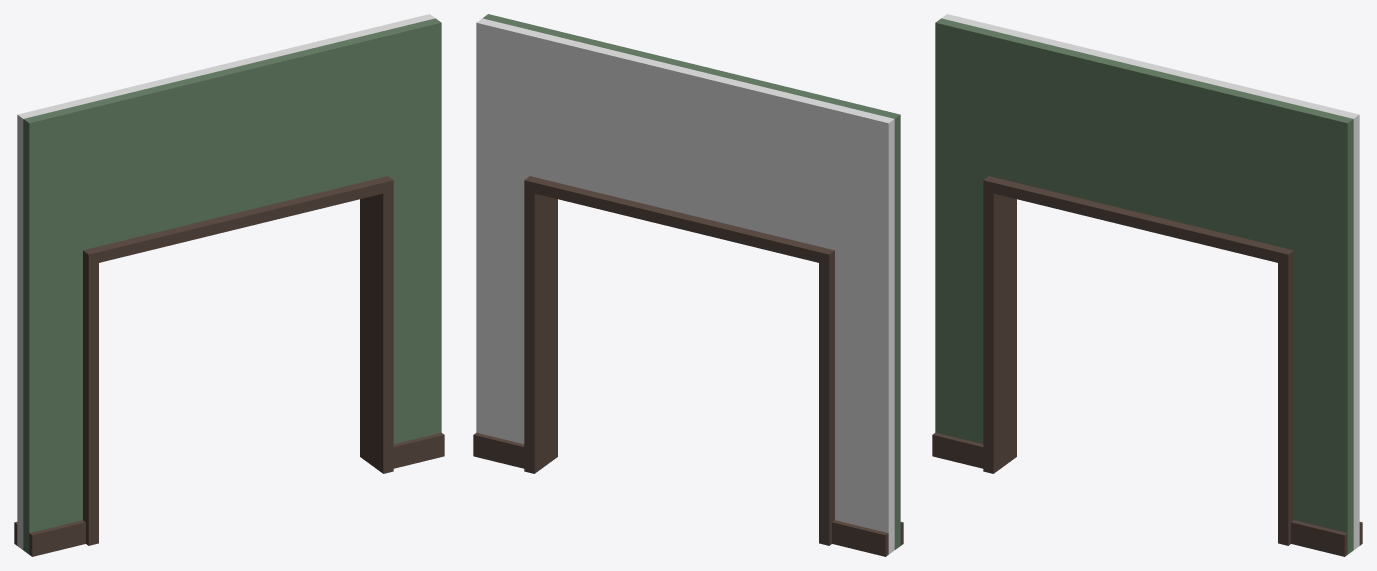
The model's file is h_wall_1_doorFrame2_4_2_multi.fbx.
3 renders of one model, left to right at view 1: azimuth 30°, elevation 25°; view 2: azimuth 150°, elevation 25°; view 3: azimuth 330°, elevation 25°, orthographic.
Visible parts, largest first — view 1: Cube, DoorFrame; view 2: Cube, DoorFrame; view 3: Cube, DoorFrame.
Boxes of the visible parts, bbox=[...] form: Cube: bbox=[14, 14, 444, 556]; DoorFrame: bbox=[83, 176, 393, 545]; Cube: bbox=[473, 14, 903, 556]; DoorFrame: bbox=[524, 176, 834, 545]; Cube: bbox=[932, 14, 1362, 556]; DoorFrame: bbox=[983, 176, 1293, 545].
Bounding box in the file's own units: 400 × 400 × 39.37.
